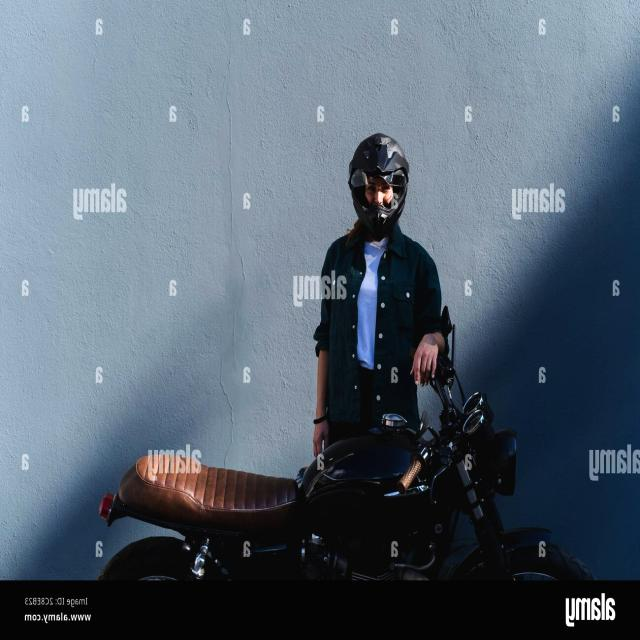helmet: (350, 133, 409, 240)
